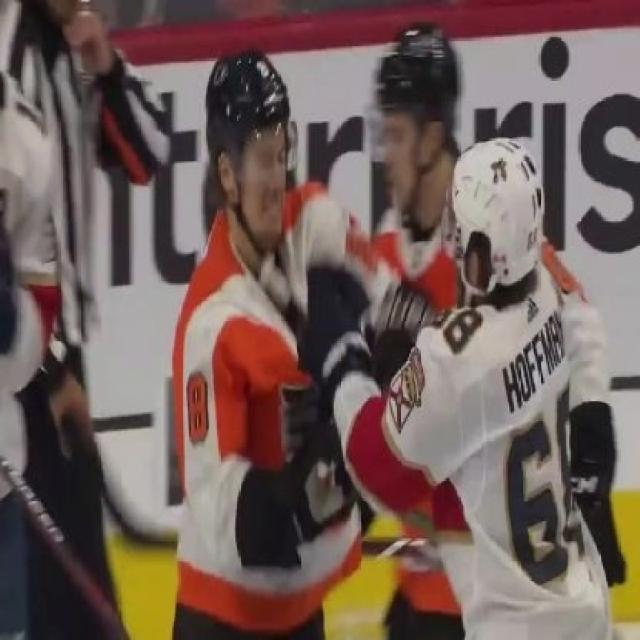fight: (170, 55, 611, 638)
non-fight: (0, 0, 177, 638)
